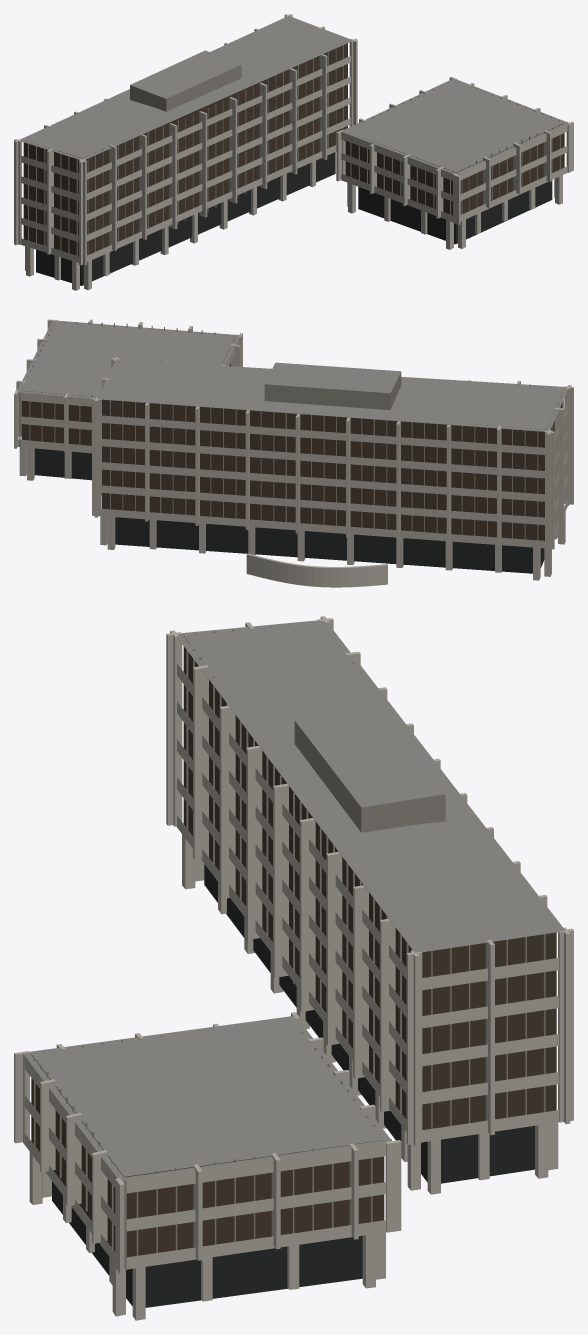
Rendered from czech_slovak_embassies.glb.
The picture shows the model from 3 angles, top to bottom: view 1: azimuth 30°, elevation 25°; view 2: azimuth 150°, elevation 25°; view 3: azimuth 270°, elevation 25°; orthographic projection. The views are drawn at different scales.
Bounding box in the file's own units: 91.95 × 26.92 × 48.05.
